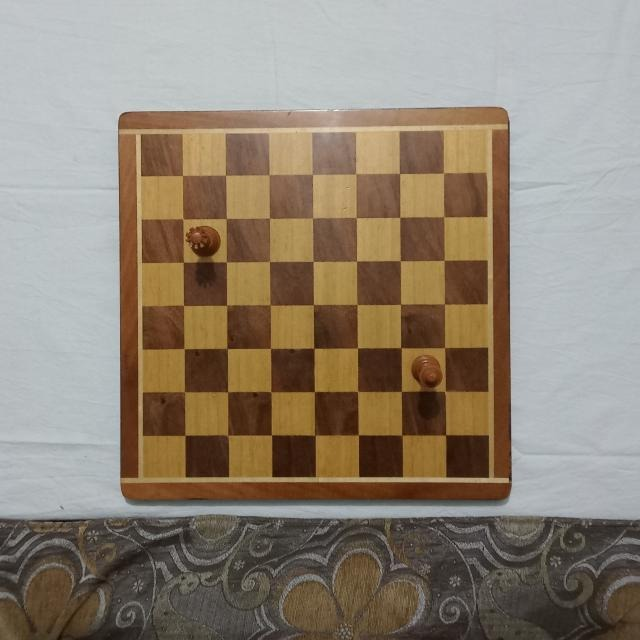white-king: (409, 354, 443, 390)
white-queen: (187, 222, 221, 257)
